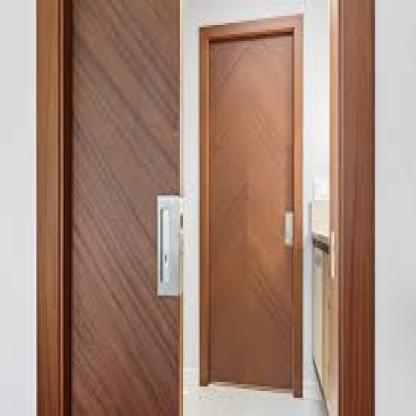Door: (200, 32, 299, 387)
